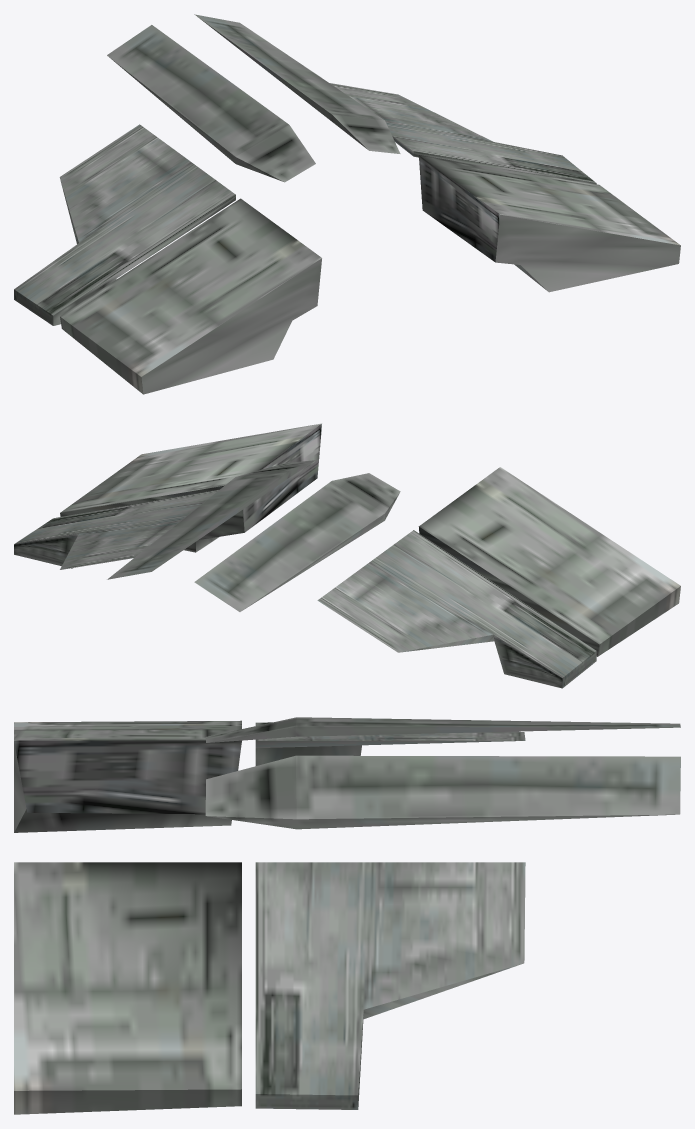
File: black_sun_fighter_medium_struct_s02_l4.fbx
The picture shows the model from 3 angles, top to bottom: view 1: azimuth 30°, elevation 25°; view 2: azimuth 150°, elevation 25°; view 3: azimuth 270°, elevation 25°; orthographic projection. The views are drawn at different scales.
Visible parts, largest first — view 1: mesh_node; view 2: mesh_node; view 3: mesh_node.
Boxes of the visible parts, x1,y1,x2,y2 form: mesh_node: (14, 14, 680, 394); mesh_node: (14, 423, 680, 688); mesh_node: (14, 717, 680, 1114).
Bounding box in the file's own units: 22.96 × 5.44 × 17.27.
1 material, 1 textured.
